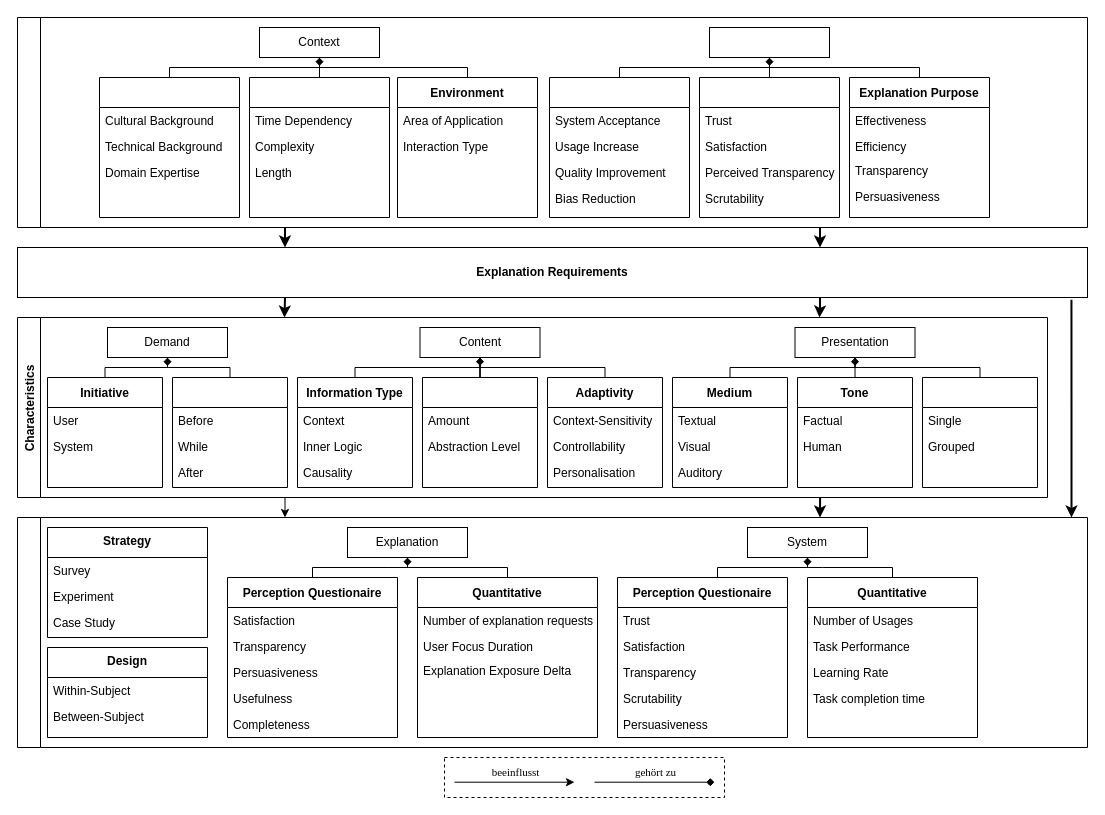
Image size: 1105x815. Some labels were removed from this diagram. Each missing label, with the box of its shape:
Business Goals: (548, 76, 690, 218)
End User: (98, 76, 240, 218)
Evaluation: (16, 516, 1088, 748)
External dependencies: (16, 16, 1088, 228)
Grouping: (922, 376, 1038, 488)
Information Density: (422, 376, 538, 488)
Objectives: (708, 26, 830, 58)
Task: (248, 76, 390, 218)
Time: (172, 376, 288, 488)
Users' Perception: (698, 76, 840, 218)
